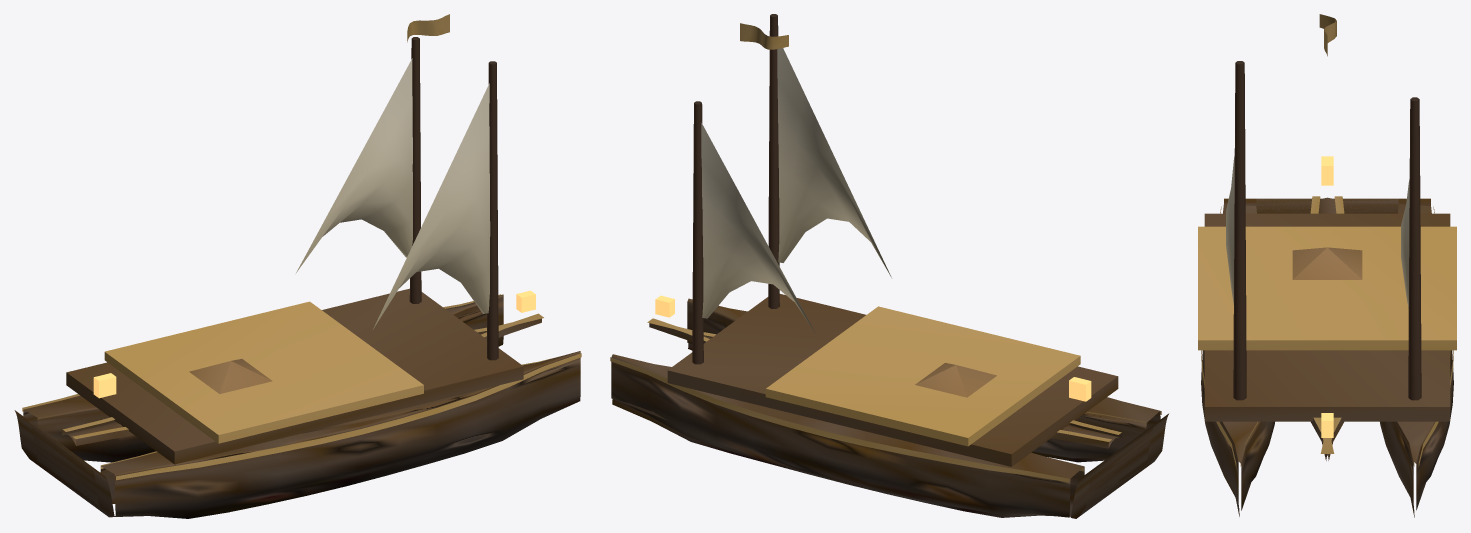
Rendered from garden-hero-barquentine.glb.
The picture shows the model from 3 angles, left to right: view 1: azimuth 30°, elevation 25°; view 2: azimuth 150°, elevation 25°; view 3: azimuth 270°, elevation 25°; orthographic projection. The views are drawn at different scales.
Visible parts, largest first — view 1: wood-hull, trim-hull, sail-hull, spar-hull, glow-hull; view 2: wood-hull, trim-hull, sail-hull, spar-hull, glow-hull; view 3: wood-hull, trim-hull, spar-hull, sail-hull, glow-hull.
Part boxes in pixels (<box>): wood-hull: <box>14,14,580,518</box>; trim-hull: <box>22,294,581,480</box>; sail-hull: <box>296,58,490,329</box>; spar-hull: <box>409,37,498,360</box>; glow-hull: <box>93,290,535,398</box>; wood-hull: <box>611,23,1168,518</box>; trim-hull: <box>610,300,1161,482</box>; sail-hull: <box>701,48,891,333</box>; spar-hull: <box>692,14,779,364</box>; glow-hull: <box>655,295,1091,401</box>; wood-hull: <box>1201,14,1453,517</box>; trim-hull: <box>1198,206,1456,466</box>; spar-hull: <box>1233,61,1421,400</box>; sail-hull: <box>1226,156,1409,307</box>; glow-hull: <box>1321,156,1333,437</box>.
Bounding box in the file's own units: 9.38 × 7.57 × 3.85.
